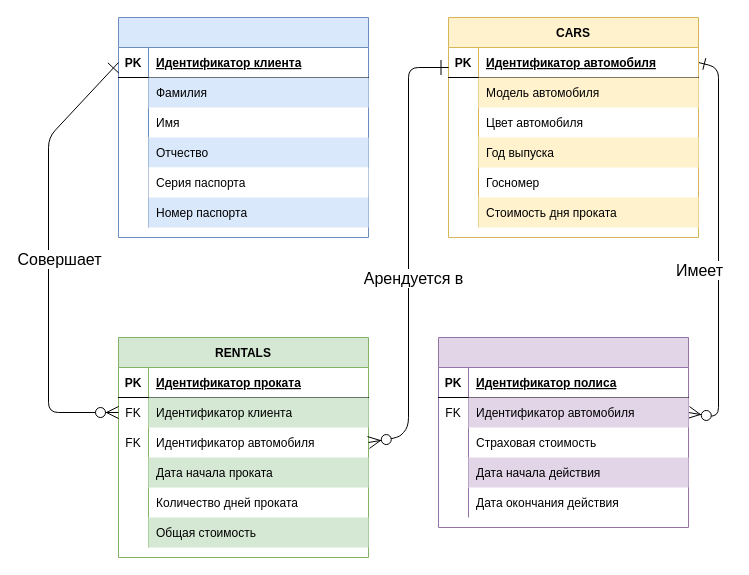
The diagram is 749 pixels wide and 575 high, and some of its shapes have lost their labels. The shapes that lost their labels are listed below. From the top down, each one's box as (x1, y1, x2, y2) in pixels, then its label:
(118, 16, 368, 238): CLIENTS
(438, 336, 688, 528): INSURANCE_POLICIES
